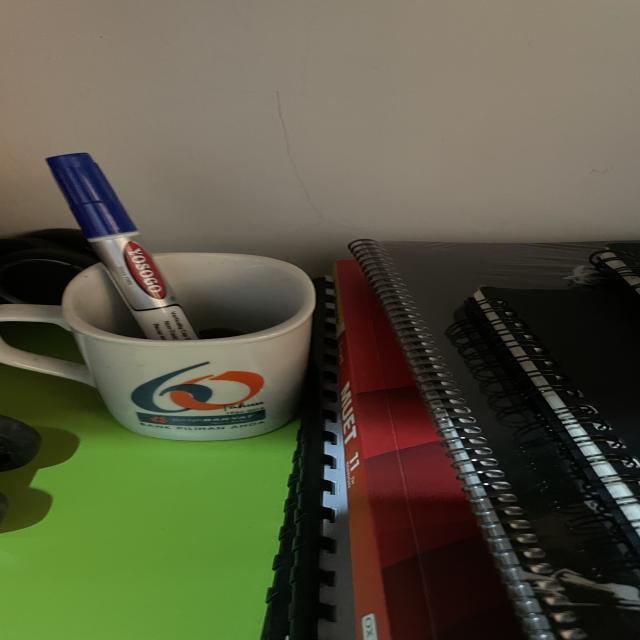marker: (46, 153, 198, 341)
